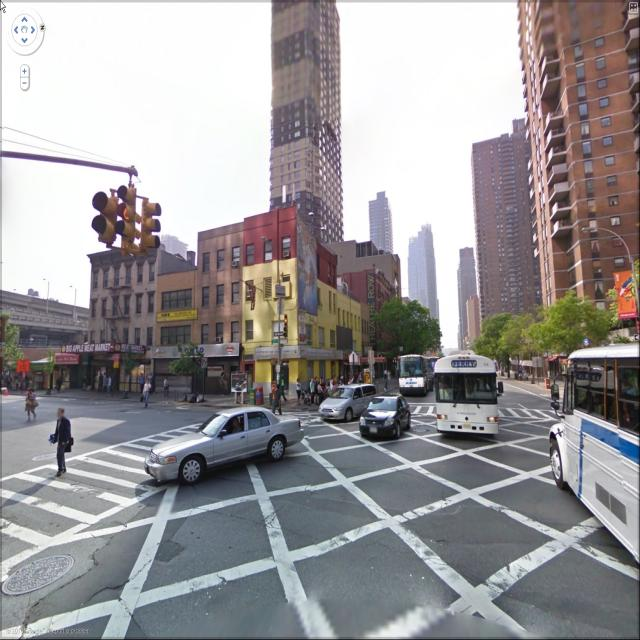b_1: (517, 4, 640, 309), (466, 128, 547, 318), (271, 1, 339, 226), (244, 207, 303, 383), (188, 209, 250, 371), (81, 247, 168, 359), (154, 266, 205, 368), (402, 228, 446, 320), (444, 244, 478, 338), (360, 194, 389, 258)
b_2: (475, 291, 633, 378)
